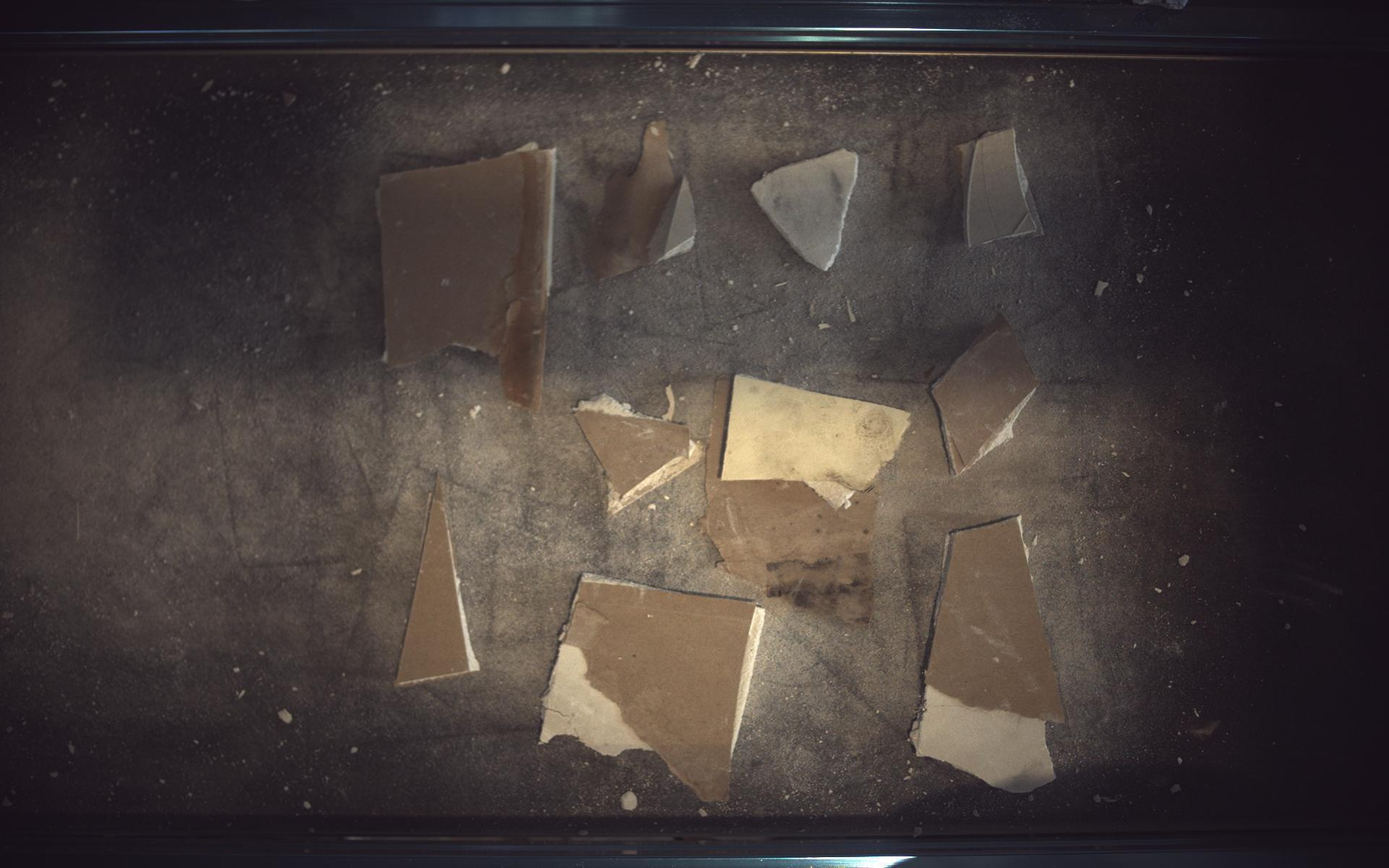gypsum_board: (540, 574, 766, 803), (705, 375, 912, 623), (378, 149, 556, 411), (912, 516, 1067, 794), (395, 475, 480, 687), (932, 313, 1041, 475), (589, 120, 697, 278), (574, 386, 705, 515), (752, 148, 859, 269), (959, 127, 1045, 246)
